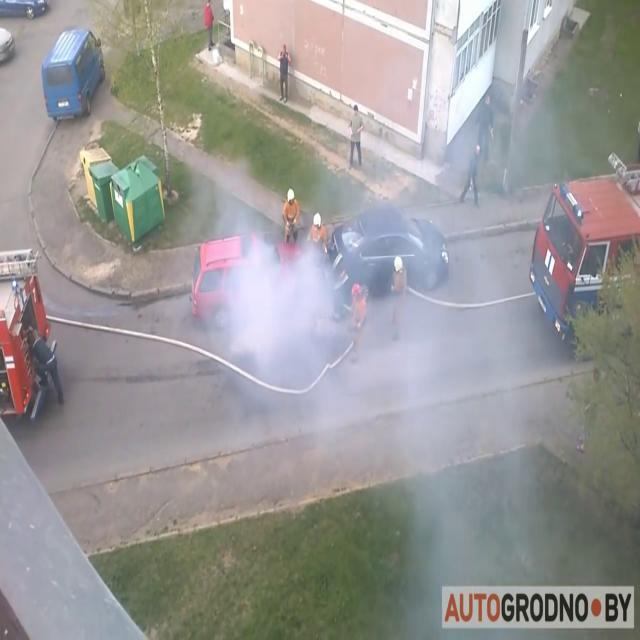Smoke: (179, 148, 606, 624)
